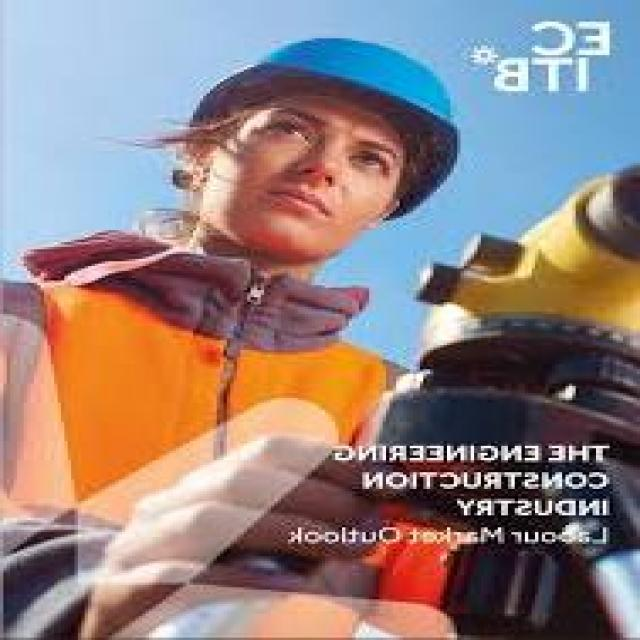Reflective-Jacket: (3, 242, 440, 640)
Safety-Helmet: (139, 29, 481, 156)
